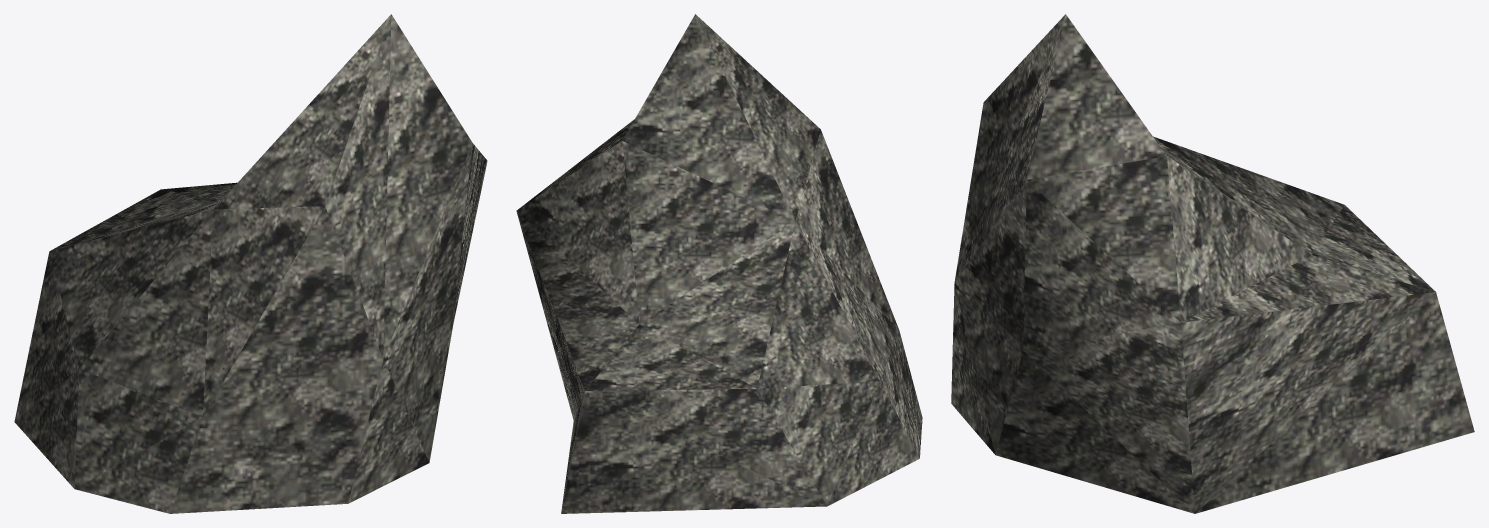
Rendered from shoreline_boulder_1.glb.
3 views of the same model, side by side, from view 1: azimuth 30°, elevation 25°; view 2: azimuth 150°, elevation 25°; view 3: azimuth 270°, elevation 25° (orthographic). The views are drawn at different scales.
Visible parts, largest first — view 1: shoreline_boulder_1; view 2: shoreline_boulder_1; view 3: shoreline_boulder_1.
Boxes of the visible parts, <box> form: shoreline_boulder_1: <box>14,14,487,513</box>; shoreline_boulder_1: <box>516,14,922,513</box>; shoreline_boulder_1: <box>951,14,1474,513</box>.
Size of the model in its own units: 3.95 by 3.81 by 3.93.
1 material, 1 textured.
